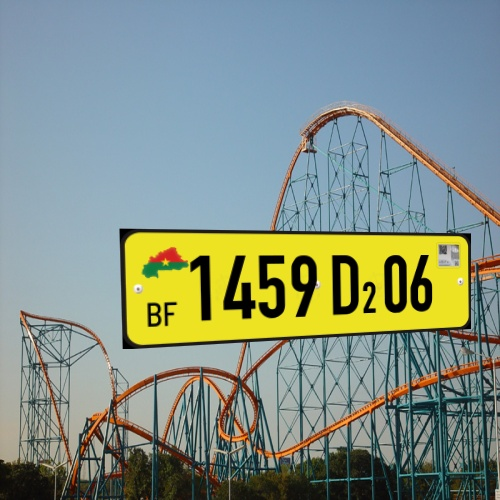plate: (111, 204, 481, 361)
